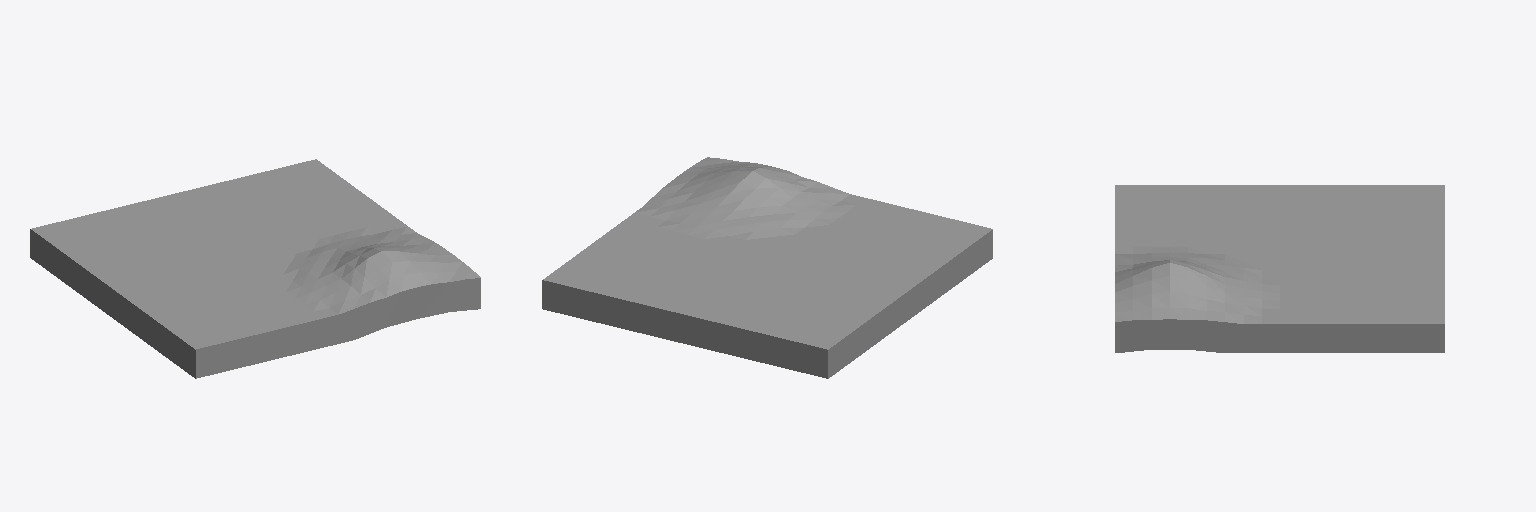
File: hill1.obj
3 views of the same model, side by side, from view 1: azimuth 30°, elevation 25°; view 2: azimuth 150°, elevation 25°; view 3: azimuth 270°, elevation 25° (orthographic).
Visible parts, largest first — view 1: Grid; view 2: Grid; view 3: Grid.
Boxes of the visible parts, box(x1,y1,x2,y2) form: Grid: box(30, 159, 480, 378); Grid: box(542, 157, 992, 378); Grid: box(1115, 185, 1444, 352).
Size of the model in its own units: 73.31 by 13.59 by 73.39.